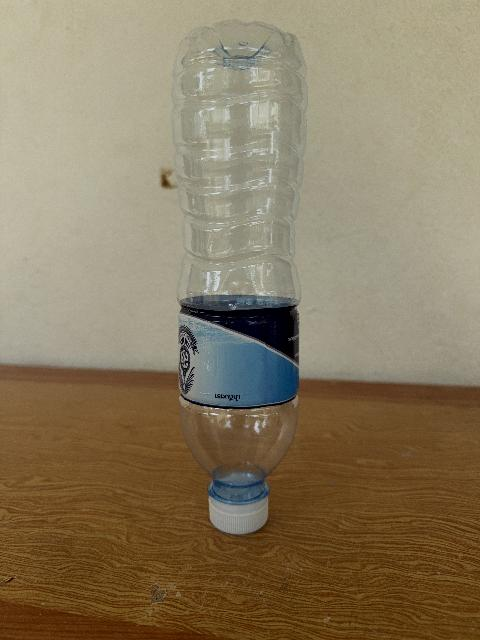bottle: (173, 21, 306, 533)
